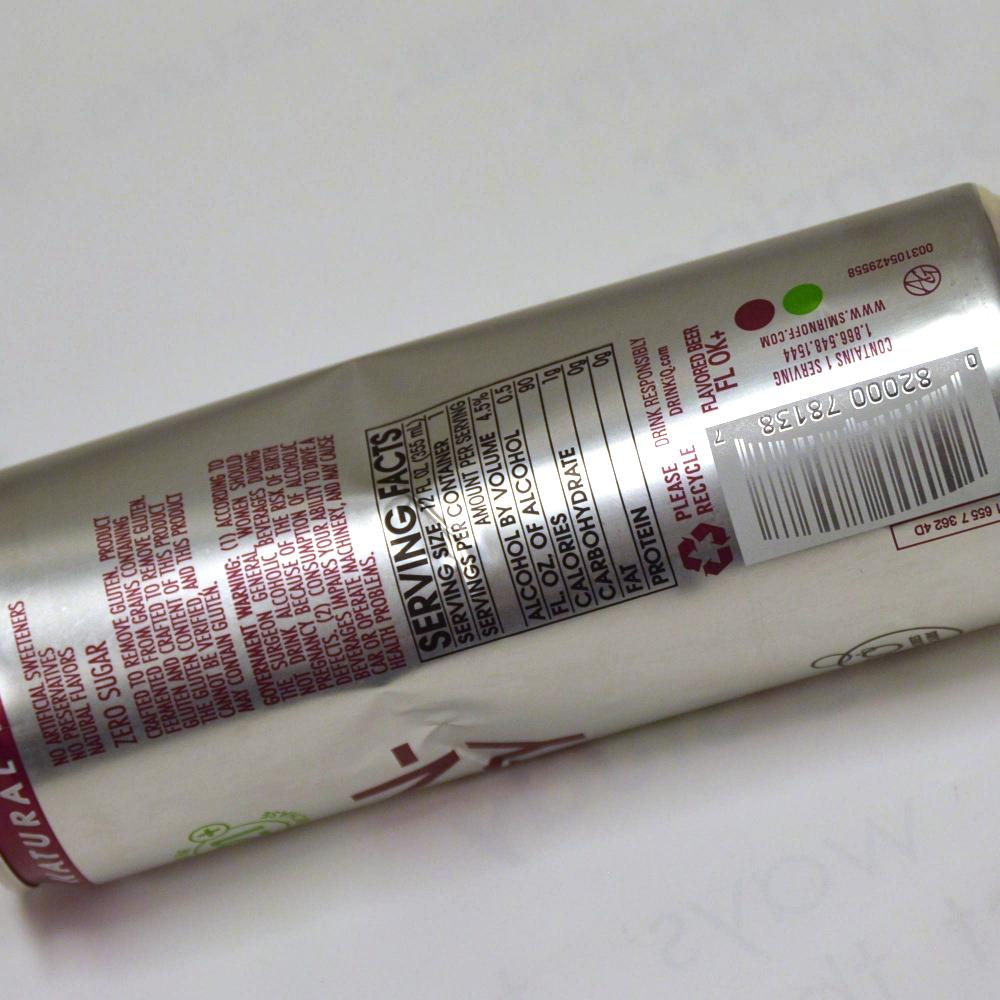Metal: (11, 195, 926, 908)
